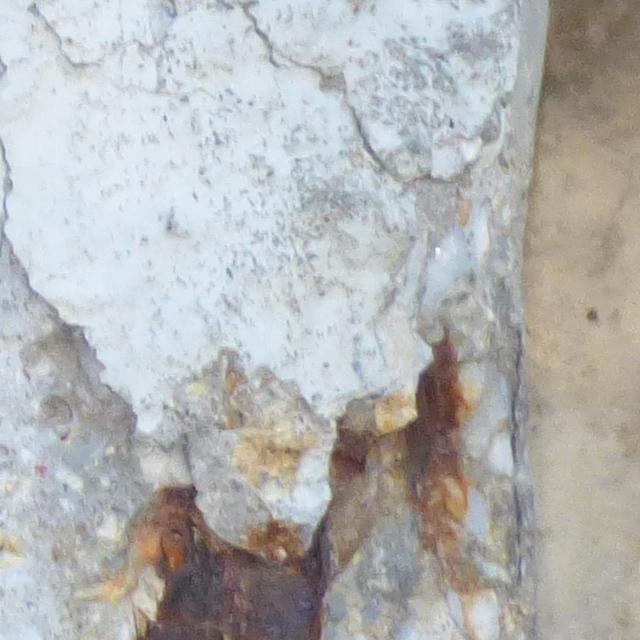Rust: (132, 490, 324, 640), (405, 323, 482, 566)
